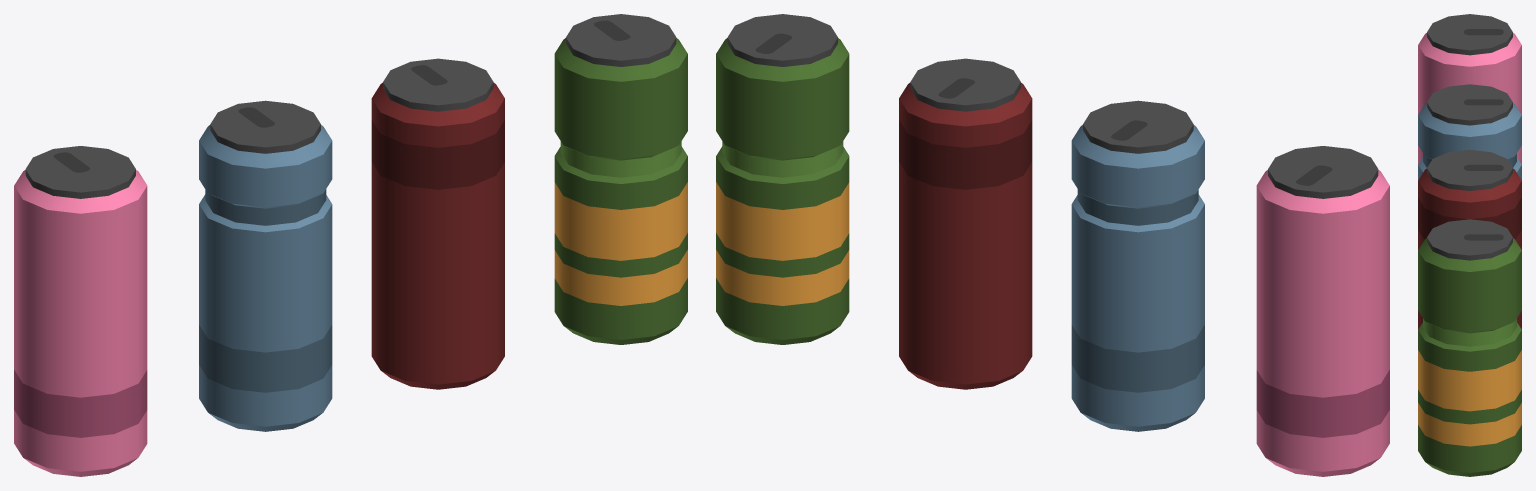
The model's file is soda.fbx.
3 renders of one model, left to right at view 1: azimuth 30°, elevation 25°; view 2: azimuth 150°, elevation 25°; view 3: azimuth 270°, elevation 25°, orthographic. The views are drawn at different scales.
Parts seen in each view (by area): view 1: Circle, Circle.007, Circle.001, Circle.006; view 2: Circle, Circle.007, Circle.001, Circle.006; view 3: Circle.006, Circle.007, Circle, Circle.001.
Part boxes in pixels (x1,y1,x2,y2): Circle: (371, 58, 504, 389); Circle.007: (14, 146, 147, 476); Circle.001: (199, 100, 332, 431); Circle.006: (554, 14, 687, 344); Circle: (899, 58, 1032, 389); Circle.007: (1256, 146, 1389, 476); Circle.001: (1071, 100, 1204, 431); Circle.006: (716, 14, 849, 344); Circle.006: (1418, 219, 1521, 476); Circle.007: (1418, 14, 1521, 164); Circle: (1418, 150, 1521, 329); Circle.001: (1418, 84, 1521, 180).
Bounding box in the file's own units: 0.4711 × 0.1953 × 0.0829.
